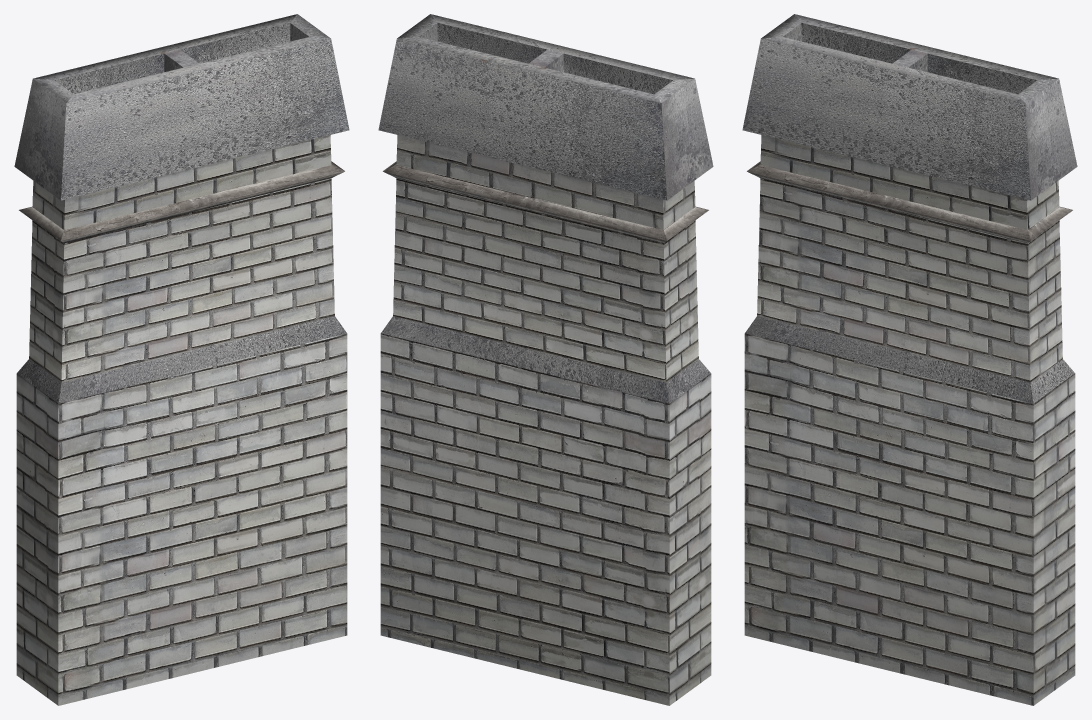
File: Chimney2A.fbx
3 renders of one model, left to right at view 1: azimuth 30°, elevation 25°; view 2: azimuth 150°, elevation 25°; view 3: azimuth 330°, elevation 25°, orthographic.
Parts seen in each view (by area): view 1: Chimney2A; view 2: Chimney2A; view 3: Chimney2A.
Boxes of the visible parts, <box> form: Chimney2A: <box>14,14,349,705</box>; Chimney2A: <box>378,14,713,705</box>; Chimney2A: <box>742,14,1077,705</box>.
Size of the model in its own units: 200 by 395 by 55.72.
